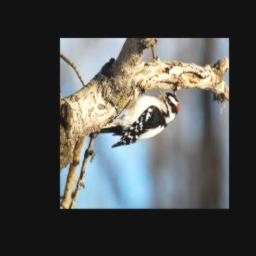Woodpecker: (94, 87, 179, 148)
